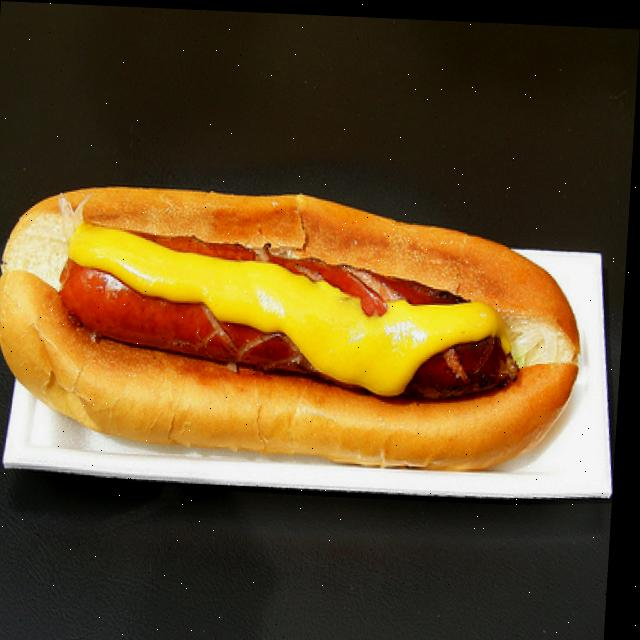汉堡快餐: (0, 156, 583, 465)
